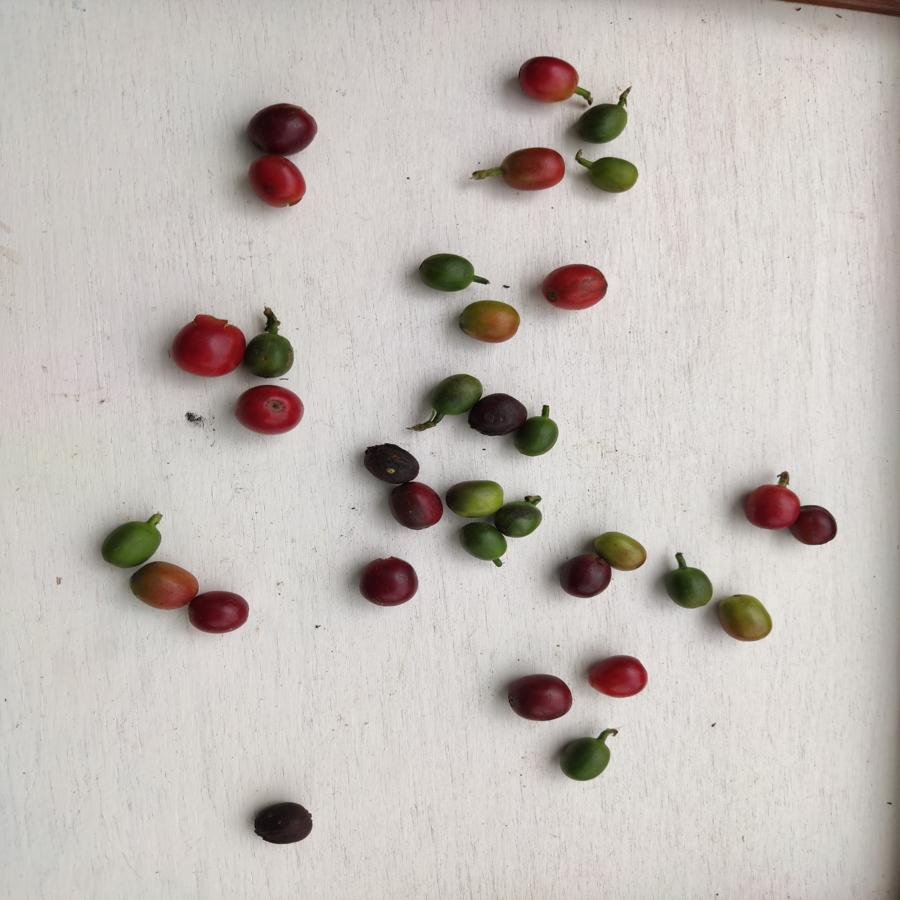Inmaduro: (99, 519, 162, 569), (412, 252, 481, 294), (561, 732, 613, 787), (574, 102, 633, 149), (443, 476, 504, 520), (664, 559, 716, 610), (581, 156, 643, 196), (245, 330, 296, 378), (458, 520, 509, 561), (431, 368, 471, 419), (517, 417, 563, 460), (496, 503, 544, 541)
Maduro: (167, 313, 245, 380), (234, 385, 306, 435), (245, 155, 309, 208), (540, 261, 610, 309), (583, 652, 652, 700), (517, 55, 577, 107), (502, 146, 570, 190), (743, 479, 799, 532)
Pinton: (128, 560, 198, 611), (454, 298, 522, 346), (716, 593, 779, 642), (602, 523, 646, 573)
Sobremaduro: (245, 101, 319, 158), (501, 669, 575, 721), (358, 552, 424, 609), (250, 799, 317, 850), (389, 481, 446, 533), (185, 591, 250, 635), (364, 439, 420, 488), (470, 390, 522, 437), (558, 553, 611, 599), (795, 503, 843, 546)
